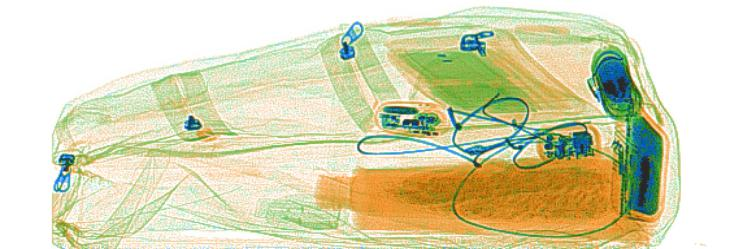battery: (597, 59, 633, 103)
